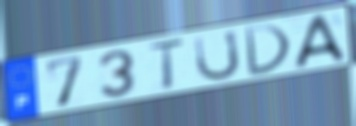3: (95, 49, 137, 100)
7: (43, 53, 85, 111)
A: (293, 11, 349, 71)
D: (242, 22, 294, 78)
T: (145, 36, 188, 92)
U: (192, 27, 242, 83)
